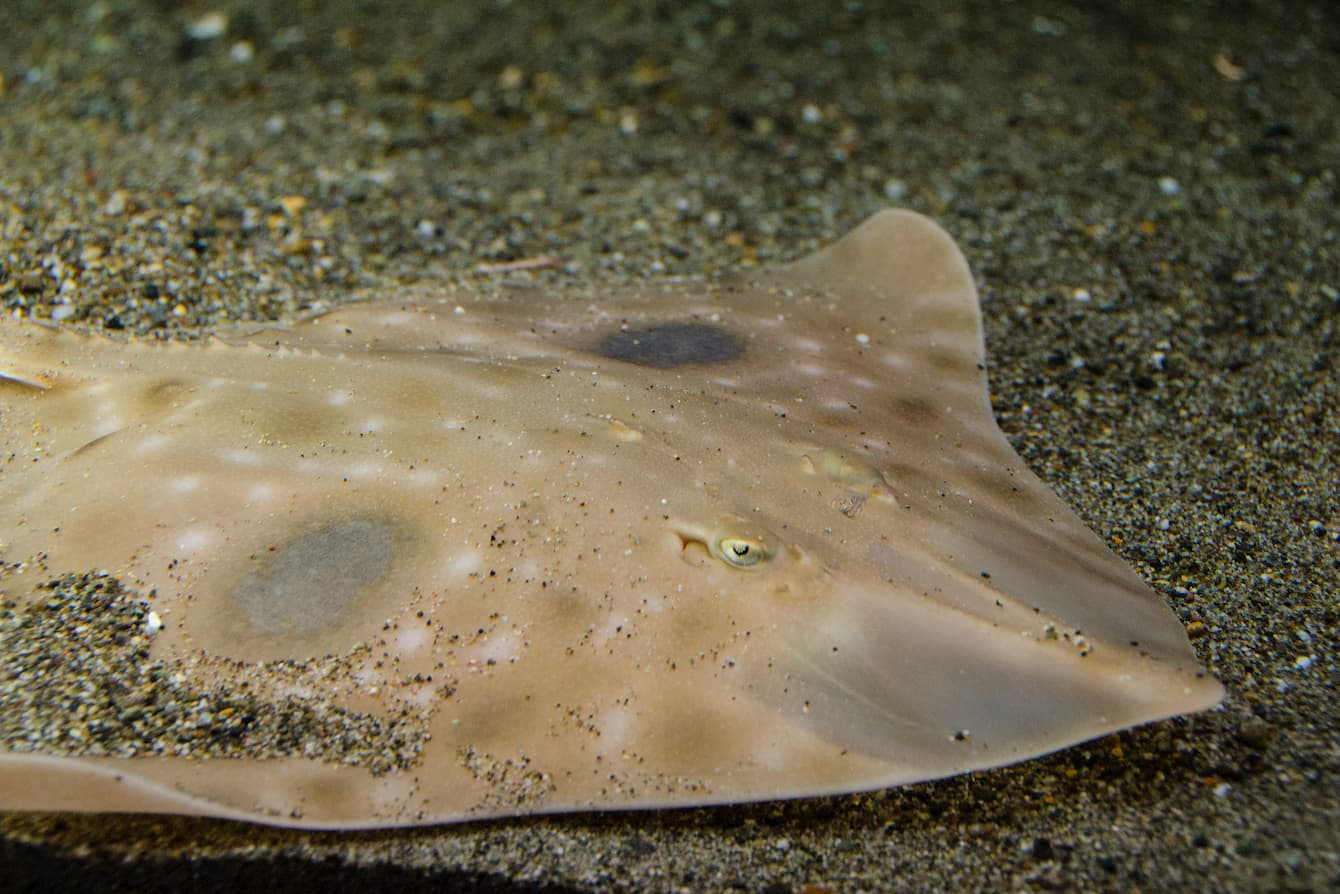Big Skate: (1, 21, 1257, 879)
